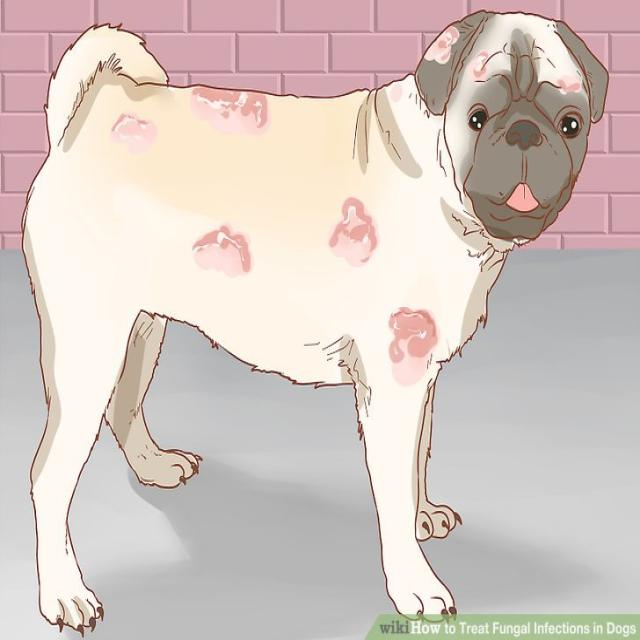fungal infection: (380, 305, 436, 389), (187, 80, 273, 132), (189, 213, 257, 276), (319, 202, 385, 266), (108, 109, 155, 147), (423, 25, 463, 69), (466, 48, 495, 80), (555, 70, 585, 98)
